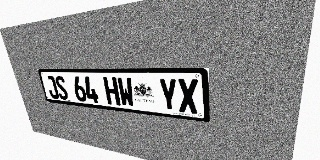4: (82, 76, 99, 103)
6: (71, 76, 88, 102)
H: (103, 77, 121, 106)
J: (45, 76, 60, 99)
S: (54, 76, 69, 100)
W: (117, 77, 135, 107)
X: (177, 78, 199, 114)
Y: (158, 78, 179, 112)
